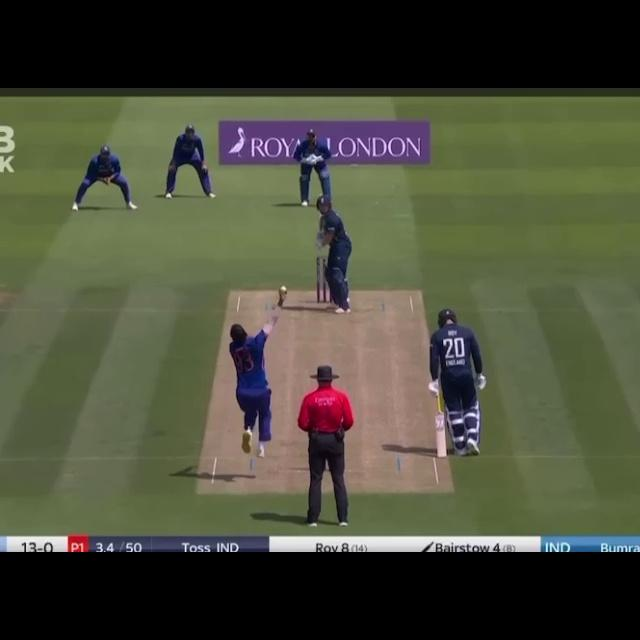umpire: (283, 360, 366, 535)
